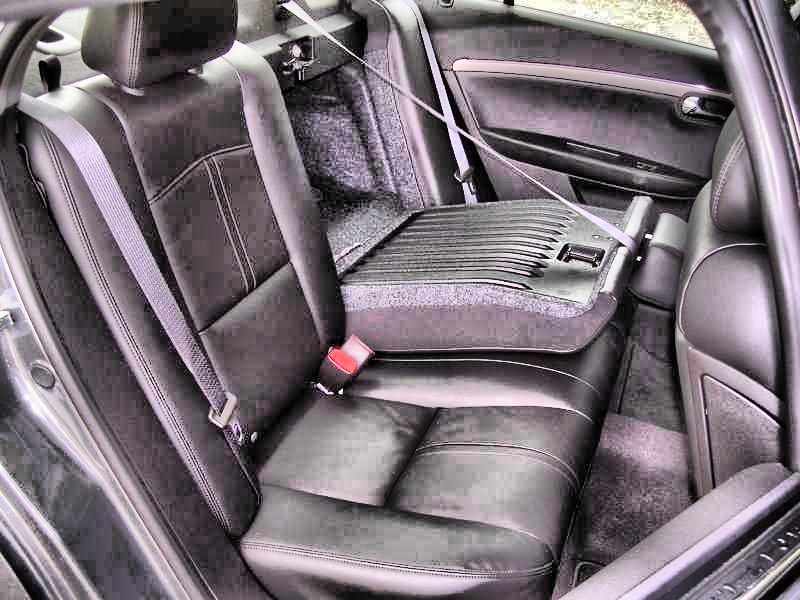seatbelt: (296, 3, 651, 262), (37, 86, 258, 449), (399, 3, 483, 208)
